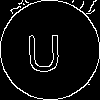U: (25, 25, 63, 72)
